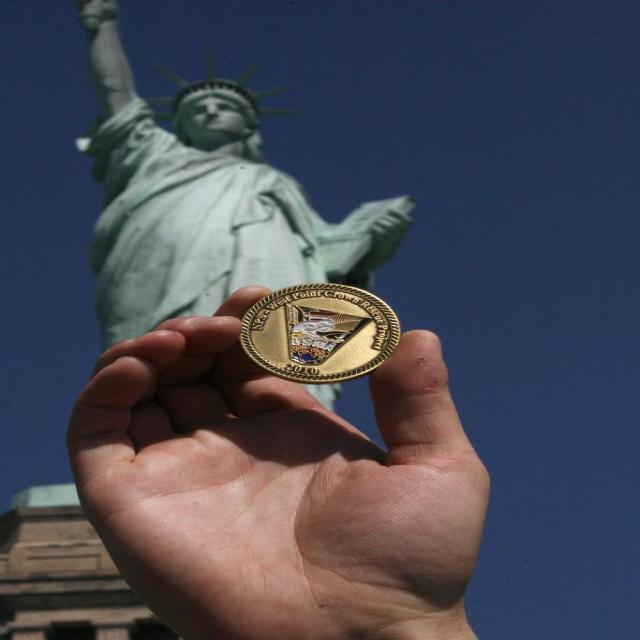Coin: (241, 287, 394, 382)
